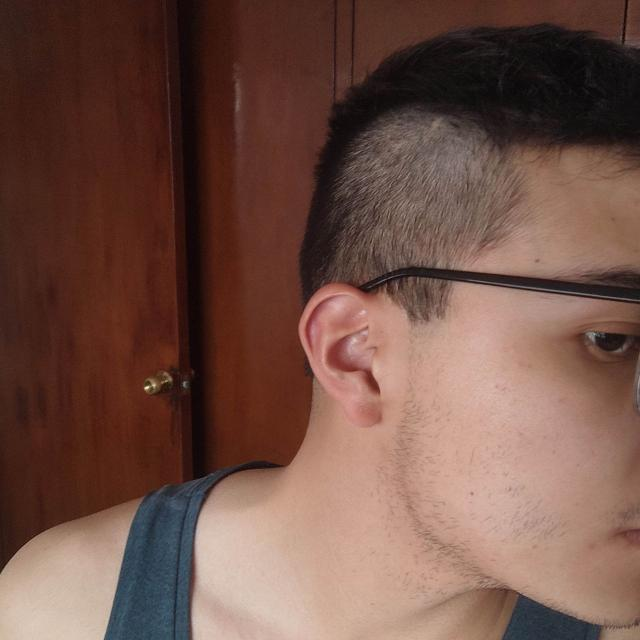ear: (301, 285, 381, 428)
